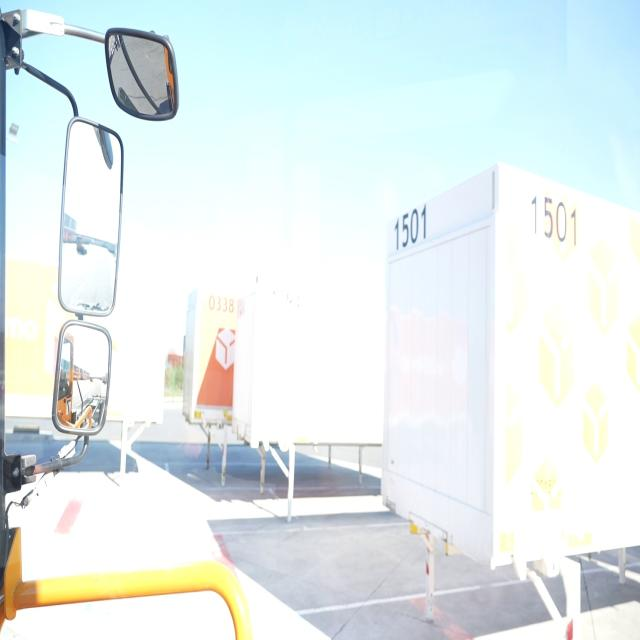Code: (526, 181, 586, 259), (393, 200, 434, 254), (205, 285, 236, 321)
